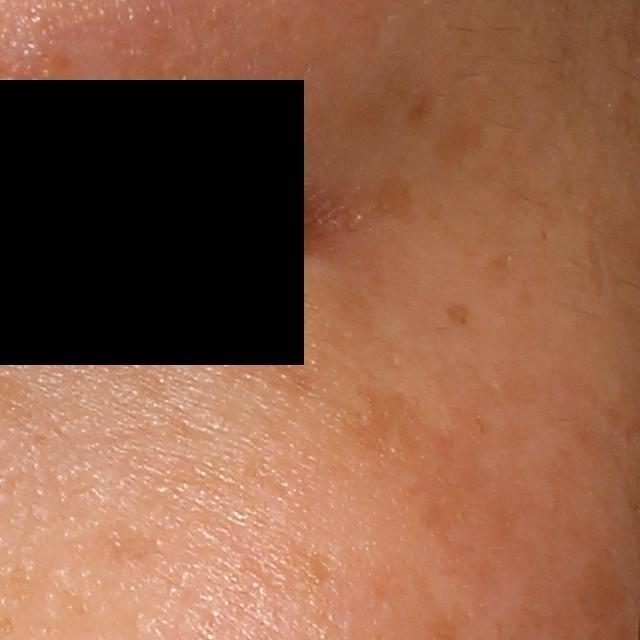melasma: (336, 382, 434, 480), (409, 76, 492, 160), (238, 326, 323, 397), (278, 274, 379, 331), (571, 548, 626, 617), (357, 173, 411, 227), (449, 302, 473, 327)
